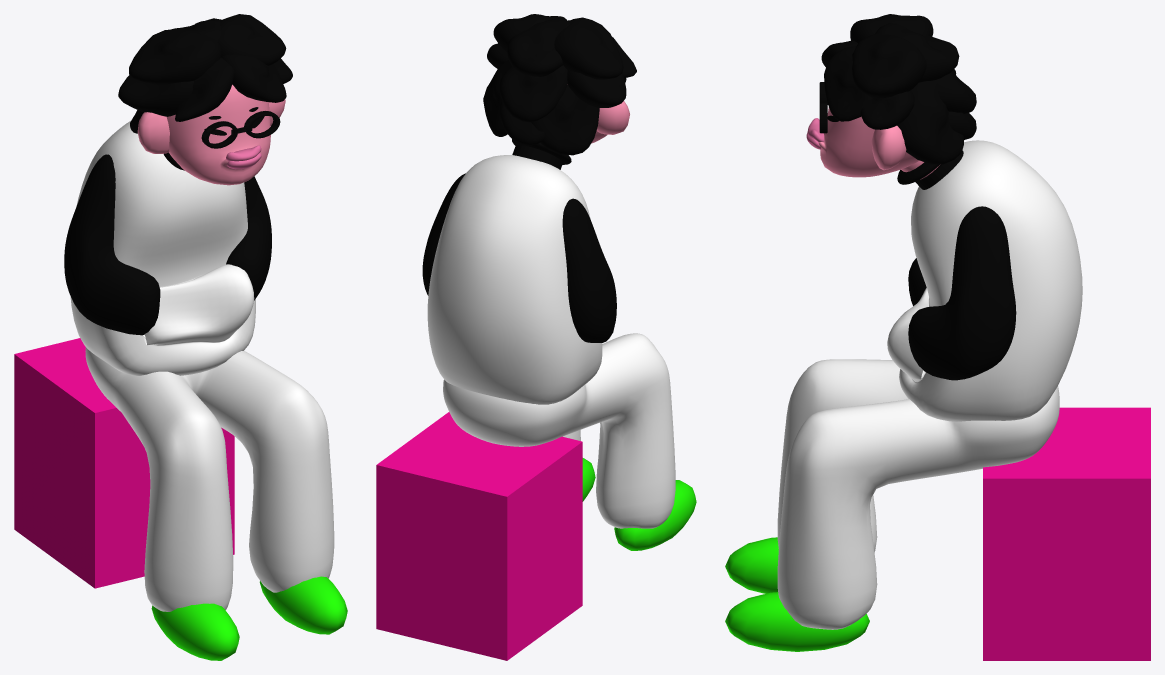
The model's file is worker.glb.
3 renders of one model, left to right at view 1: azimuth 30°, elevation 25°; view 2: azimuth 150°, elevation 25°; view 3: azimuth 270°, elevation 25°, orthographic. The views are drawn at different scales.
Visible parts, largest first — view 1: pCube10, pCube9, 1body1, 3-2body, pCube1, pSphere9.006, pCube13, pCube12, pSphere9.005, pSphere9.007, pSphere9.003, pSphere9.004 (+2 smaller); view 2: pCube9, 1body1, pCube10, 3-2body, pSphere9.006, pSphere9.010, pSphere9.009, pSphere9.008, pCube13, pSphere9.007, pSphere9.011, pSphere9.012 (+3 smaller); view 3: pCube9, pCube10, 1body1, 3-2body, pCube12, pCube1, pSphere9.005, pSphere9.011, pCube13, pSphere9.003, pSphere9.008, pSphere9.002 (+2 smaller).
Boxes of the visible parts, <box> form: pCube10: <box>85,334,334,611</box>; pCube9: <box>14,338,234,588</box>; 1body1: <box>70,121,255,375</box>; 3-2body: <box>64,154,271,335</box>; pCube1: <box>137,84,285,185</box>; pSphere9.006: <box>129,29,221,85</box>; pCube13: <box>151,603,239,660</box>; pCube12: <box>259,576,347,634</box>; pSphere9.005: <box>217,14,286,65</box>; pSphere9.007: <box>118,75,193,116</box>; pSphere9.003: <box>221,54,286,102</box>; pSphere9.004: <box>175,57,234,121</box>; pCube9: <box>376,412,582,660</box>; 1body1: <box>427,155,602,404</box>; pCube10: <box>443,333,675,528</box>; 3-2body: <box>422,173,616,342</box>; pSphere9.006: <box>554,17,623,79</box>; pSphere9.010: <box>531,85,599,155</box>; pSphere9.009: <box>500,65,567,122</box>; pSphere9.008: <box>507,18,569,76</box>; pCube13: <box>614,480,696,550</box>; pSphere9.007: <box>567,70,626,107</box>; pSphere9.011: <box>483,60,511,136</box>; pSphere9.012: <box>500,101,544,145</box>; pCube9: <box>983,407,1150,660</box>; pCube10: <box>777,359,1059,629</box>; 1body1: <box>887,140,1082,421</box>; 3-2body: <box>908,206,1016,380</box>; pCube12: <box>725,592,869,651</box>; pCube1: <box>818,107,939,179</box>; pSphere9.005: <box>852,33,926,98</box>; pSphere9.011: <box>897,80,963,164</box>; pCube13: <box>725,537,778,593</box>; pSphere9.003: <box>824,46,872,121</box>; pSphere9.008: <box>875,23,959,82</box>; pSphere9.002: <box>860,90,914,129</box>.
Bounding box in the file's own units: 0.4183 × 1.18 × 0.7618.
